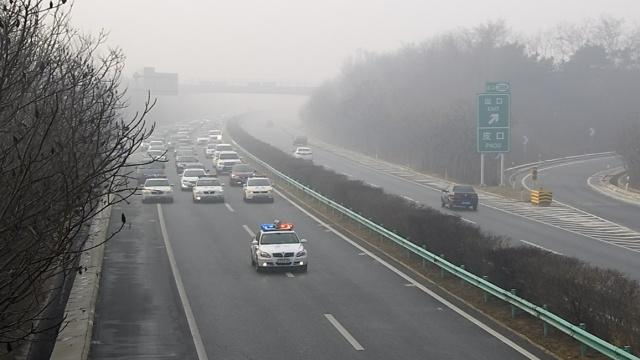car: (250, 218, 308, 272), (440, 183, 479, 210), (190, 175, 225, 202), (242, 176, 275, 203), (140, 178, 175, 203), (134, 158, 166, 183), (178, 169, 212, 192), (215, 151, 244, 176), (228, 164, 257, 187), (175, 156, 206, 175), (211, 151, 233, 170), (213, 144, 236, 162), (294, 147, 314, 163), (204, 144, 221, 160), (145, 139, 164, 153), (292, 135, 308, 146), (195, 134, 211, 144), (260, 118, 274, 128)
